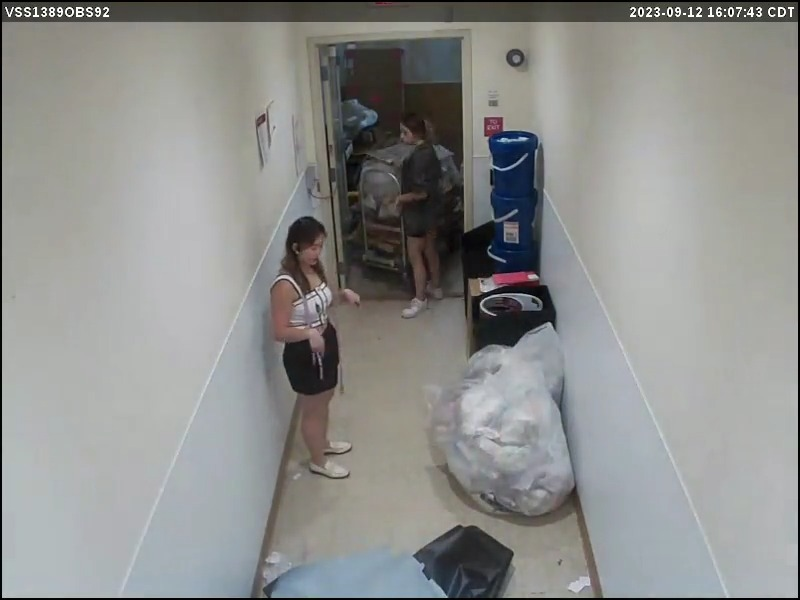No-gloves: (303, 326, 335, 367), (336, 283, 369, 315)
